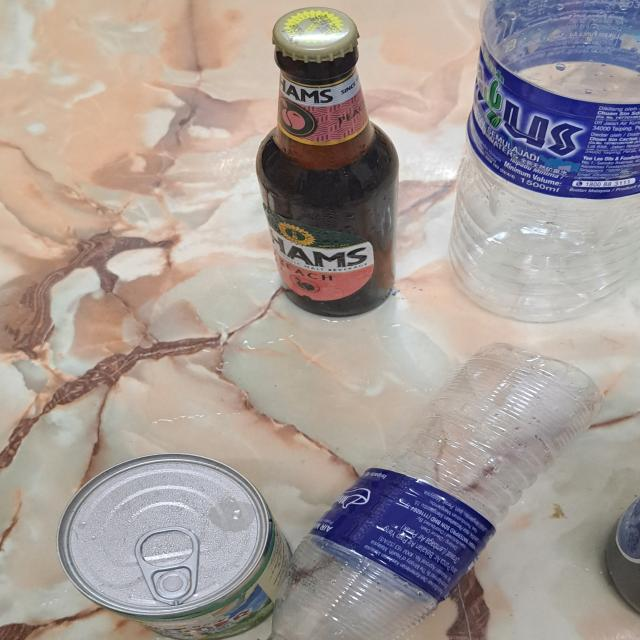can: (60, 451, 298, 640)
glass bottle: (255, 9, 399, 319)
plastic bottle: (268, 343, 603, 640), (449, 0, 640, 323)
pop tab: (133, 528, 203, 604)
